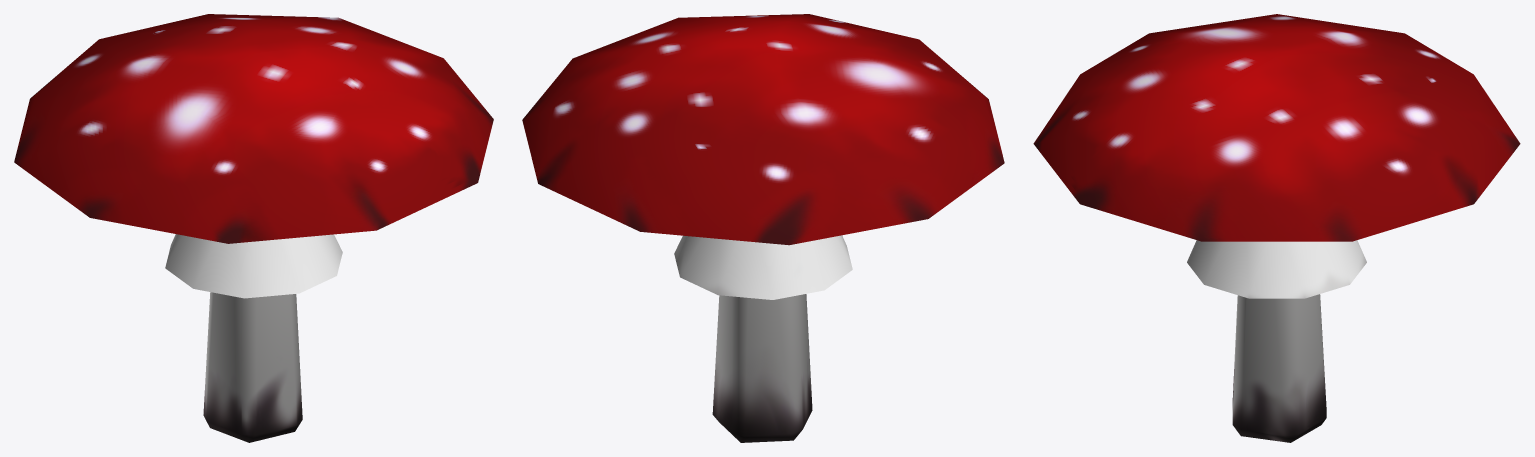
The model's file is Agaric_Mushroom.fbx.
3 views of the same model, side by side, from view 1: azimuth 30°, elevation 25°; view 2: azimuth 150°, elevation 25°; view 3: azimuth 270°, elevation 25° (orthographic).
Parts seen in each view (by area): view 1: AgaricMushroom; view 2: AgaricMushroom; view 3: AgaricMushroom.
Part boxes in pixels (bbox=[...]): AgaricMushroom: bbox=[14, 14, 493, 442]; AgaricMushroom: bbox=[522, 14, 1004, 442]; AgaricMushroom: bbox=[1033, 14, 1520, 442].
Size of the model in its own units: 0.2705 by 0.2369 by 0.2845.
1 material, 1 textured.
